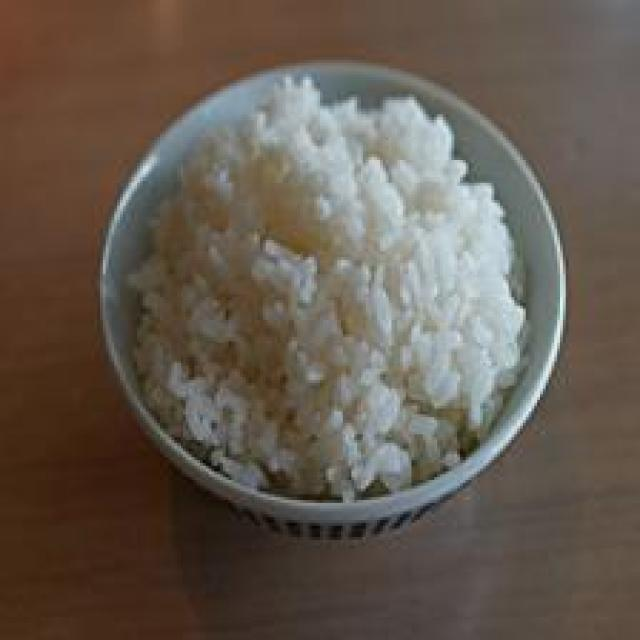Wet Waste: (109, 73, 540, 513)
